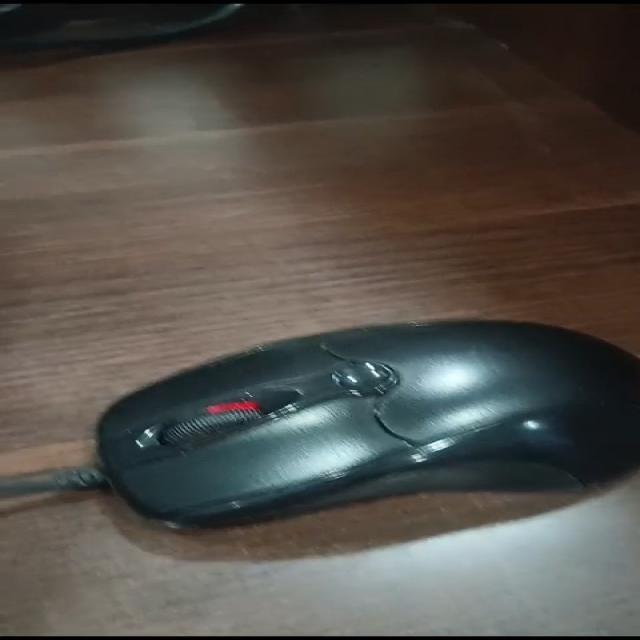Mouse: (35, 316, 640, 534)
